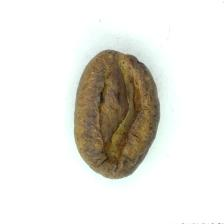NG: (89, 52, 148, 175)
